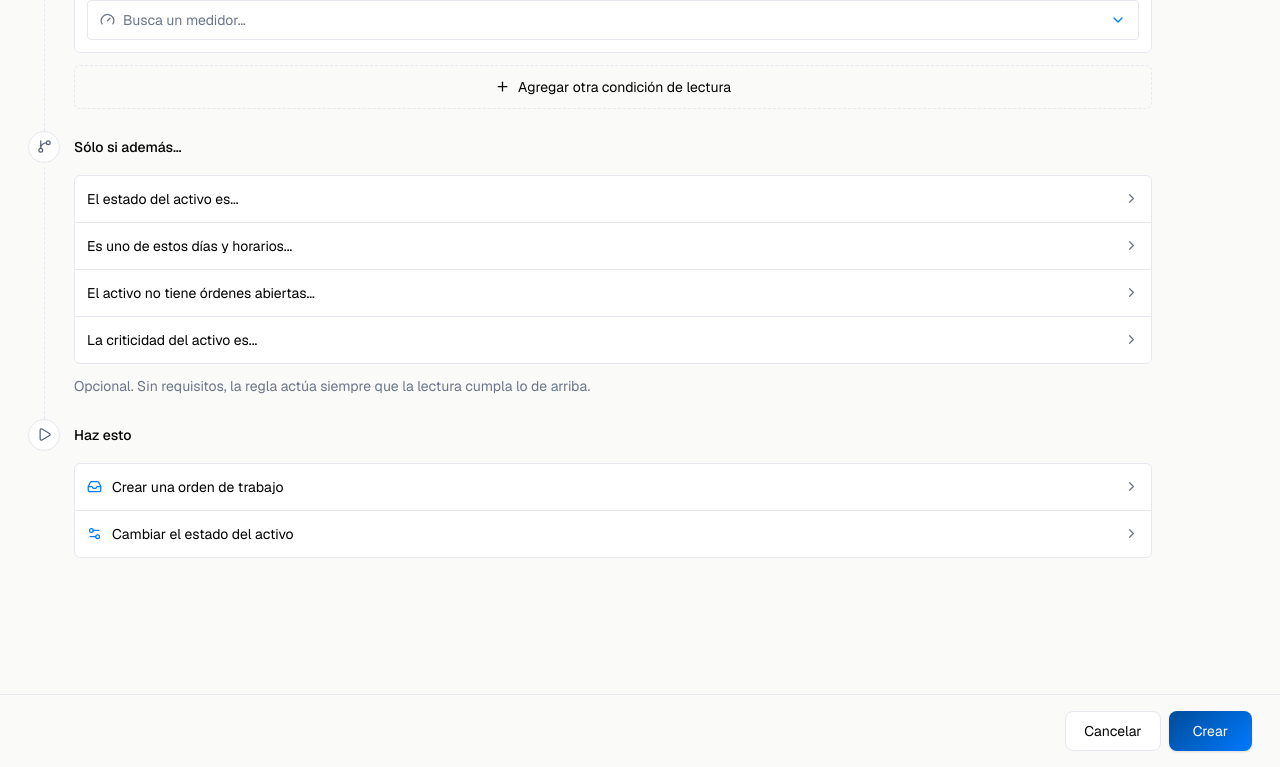
Test case: AutomatizacionCrearPanel — varias acciones › muestra el botón de agregar otra recién con una acción puesta
(page scrolled)
Click the button with aria-label "Agregar acción: Crear una orden de trabajo" at (198, 487), box x1=75 y1=464 x2=1151 y2=510
(page scrolled)
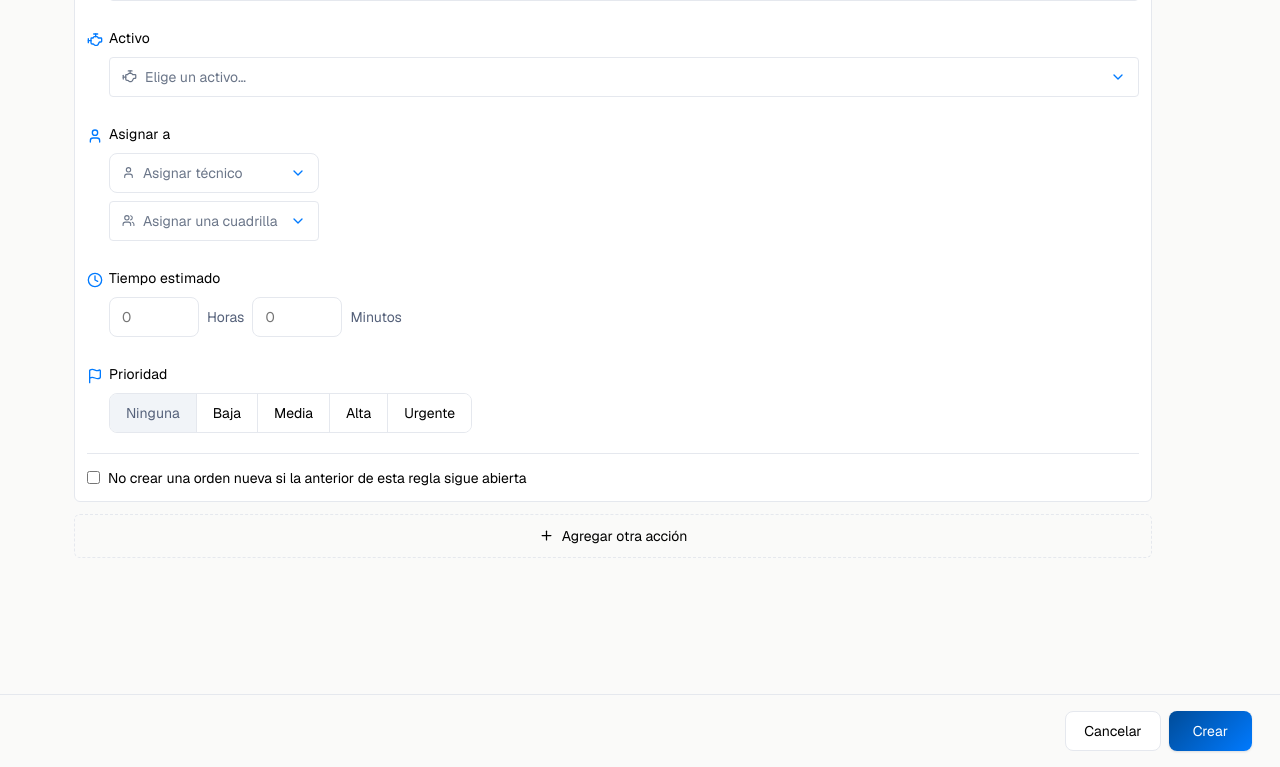
expect the button "Agregar otra acción" is shown: met, box x1=74 y1=514 x2=1152 y2=558
